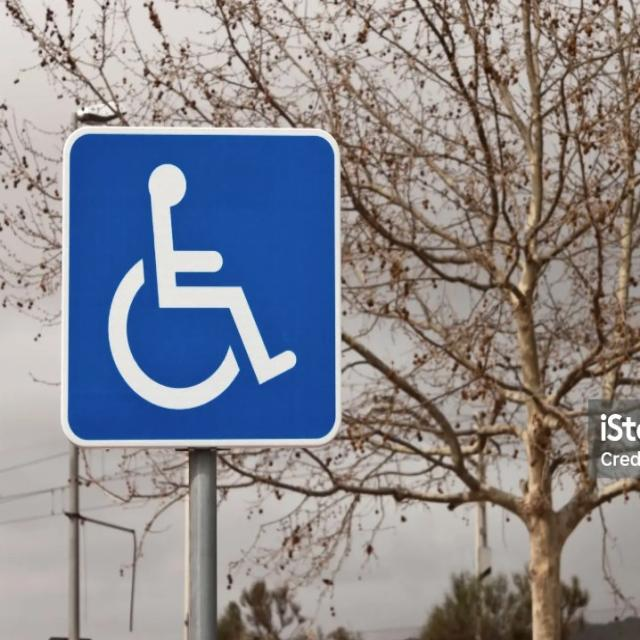symbol_of_access: (59, 124, 343, 449)
